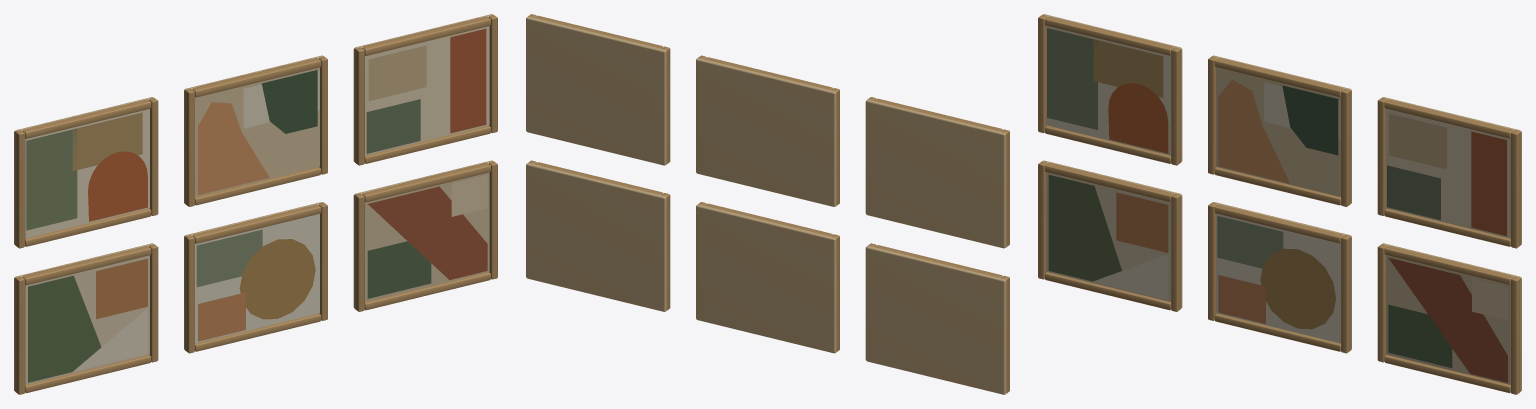
Rendered from artwork_set.glb.
3 views of the same model, side by side, from view 1: azimuth 30°, elevation 25°; view 2: azimuth 150°, elevation 25°; view 3: azimuth 330°, elevation 25° (orthographic).
Visible parts, largest first — view 1: Body; view 2: Body; view 3: Body.
Boxes of the visible parts, box(x1,y1,x2,y2) form: Body: box(14, 14, 497, 394); Body: box(526, 14, 1009, 394); Body: box(1038, 14, 1521, 394).
Bounding box in the file's own units: 2.4 × 1.25 × 0.05.
